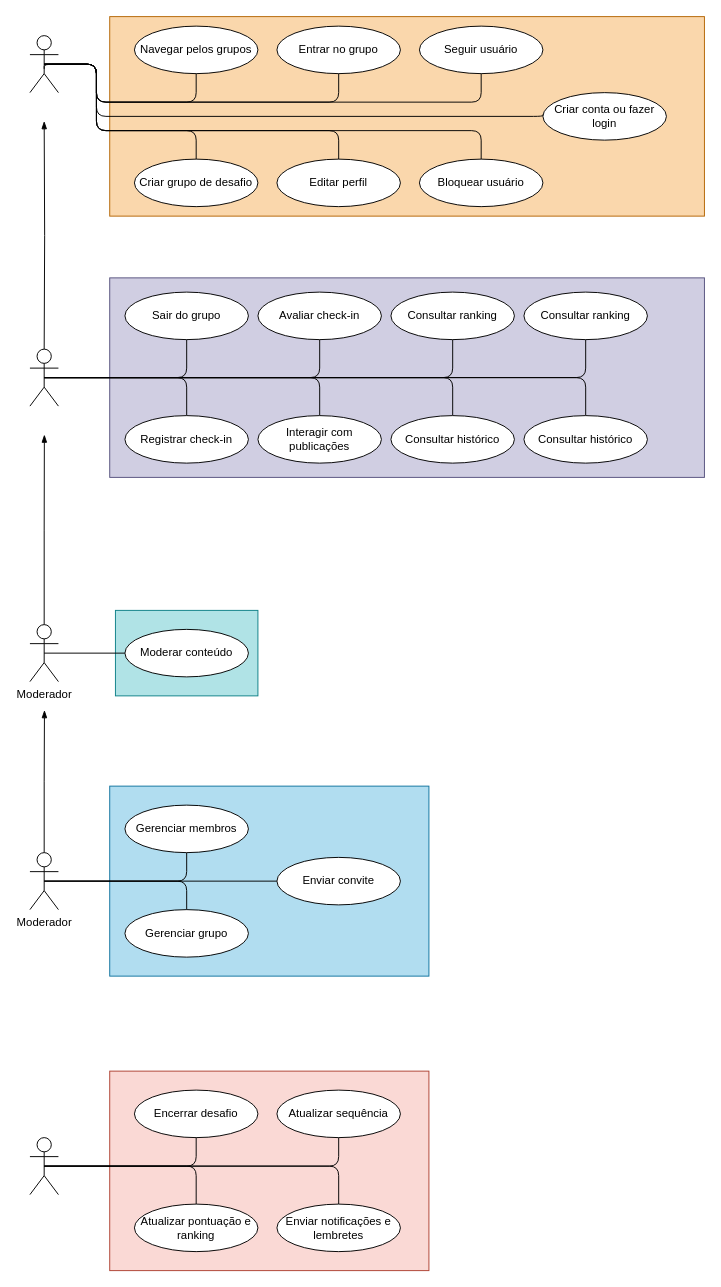
Some shapes in this 721 by 1287 pixel diagram are drawn without their labels. The shapes that lost their labels are listed below. From the top down, each one's centre as x and y in pixels, then its label:
At pixel 43 64: "Usuário".
At pixel 43 377: "Membro".
At pixel 43 1166: "Sistema".
